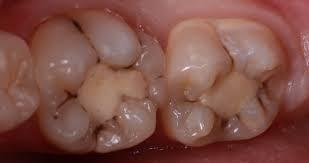cavity: (23, 4, 180, 158), (161, 12, 295, 150), (0, 24, 43, 143)
